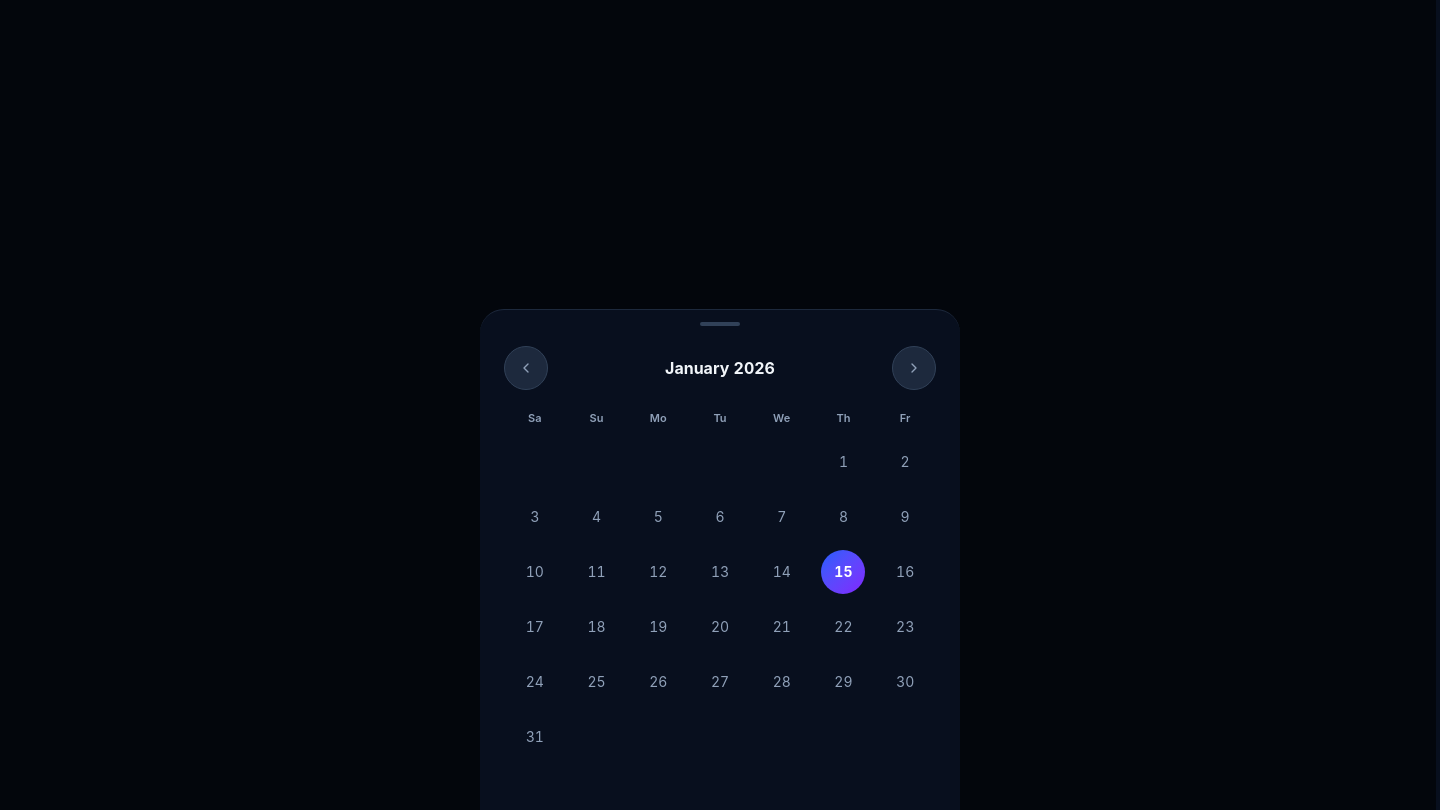
Scenario: DatePickerSheet › wraps from January to December when navigating back
Click the button named "previous month".
click(526, 368)  # box [504, 346, 548, 390]
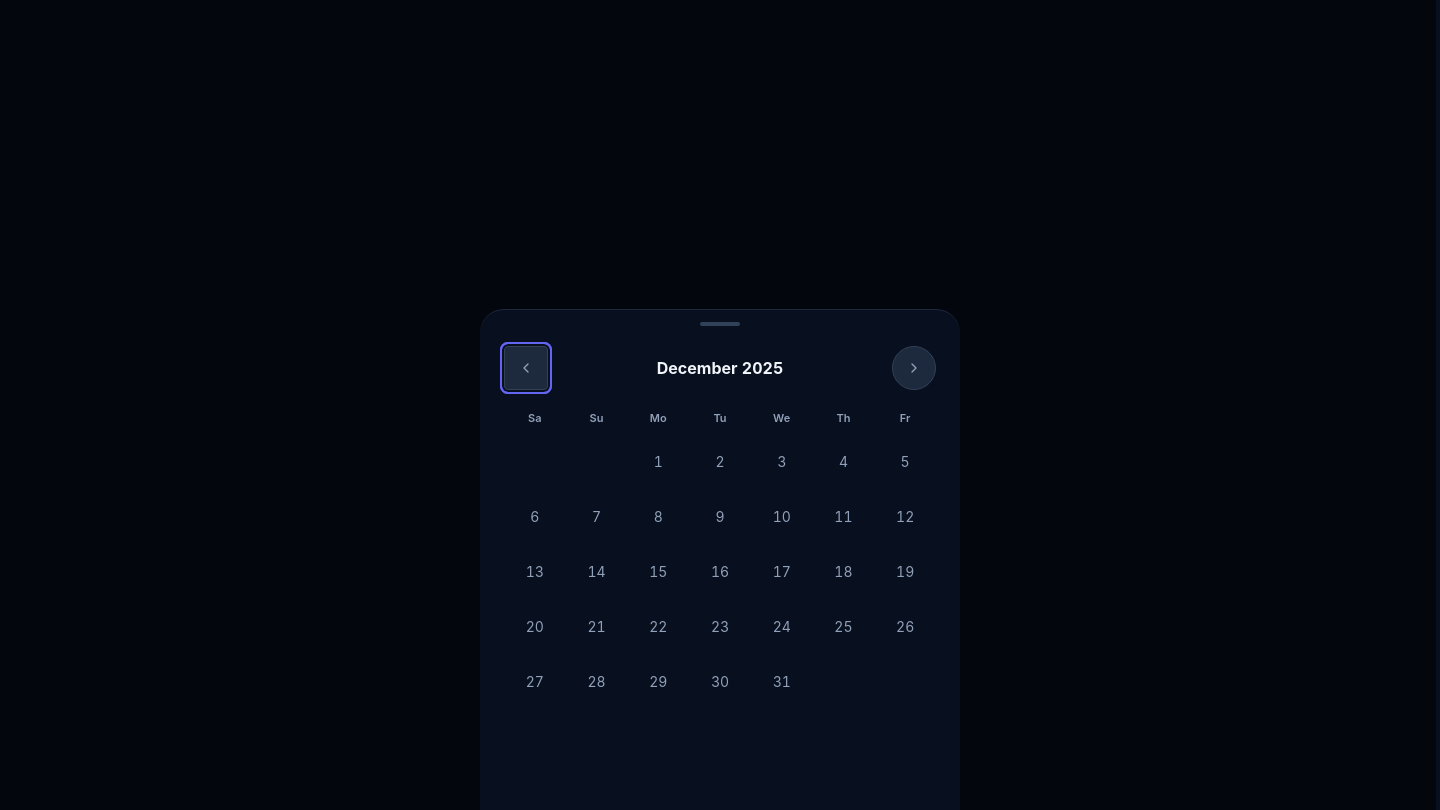
Now the text "December 2025" is shown, box [657, 356, 783, 380]
